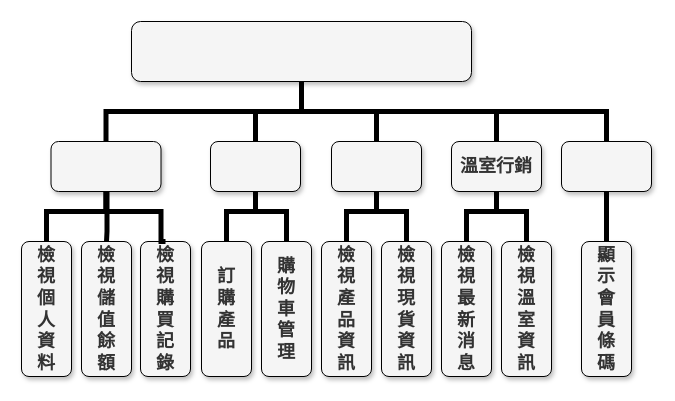
This 675x401 diagram has some shape labels left out. Each missing label, with the centre of its shape:
FarmIn App.: point 302,52
會員資料管理: point 106,167
產品訂購: point 256,167
產品資訊: point 377,167
結帳儲值: point 607,167
